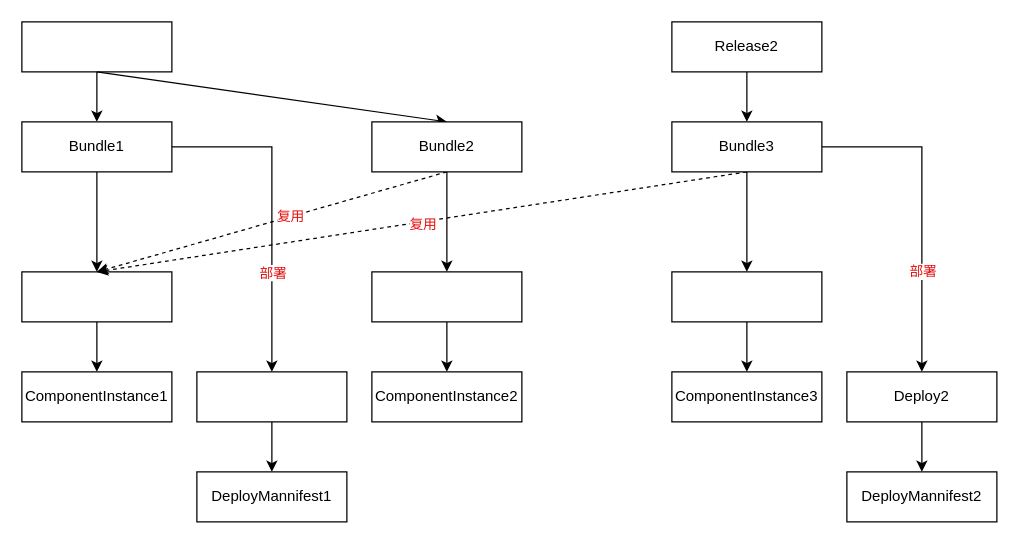
Some shapes in this 1019 by 544 pixel diagram are drawn without their labels. Each missing label, with the box of its shape:
BundleAsset1: (21, 271, 172, 322)
BundleAsset2: (371, 271, 522, 322)
BundleAsset3: (671, 271, 822, 322)
Deploy1: (196, 371, 347, 422)
Release1: (21, 21, 172, 72)
